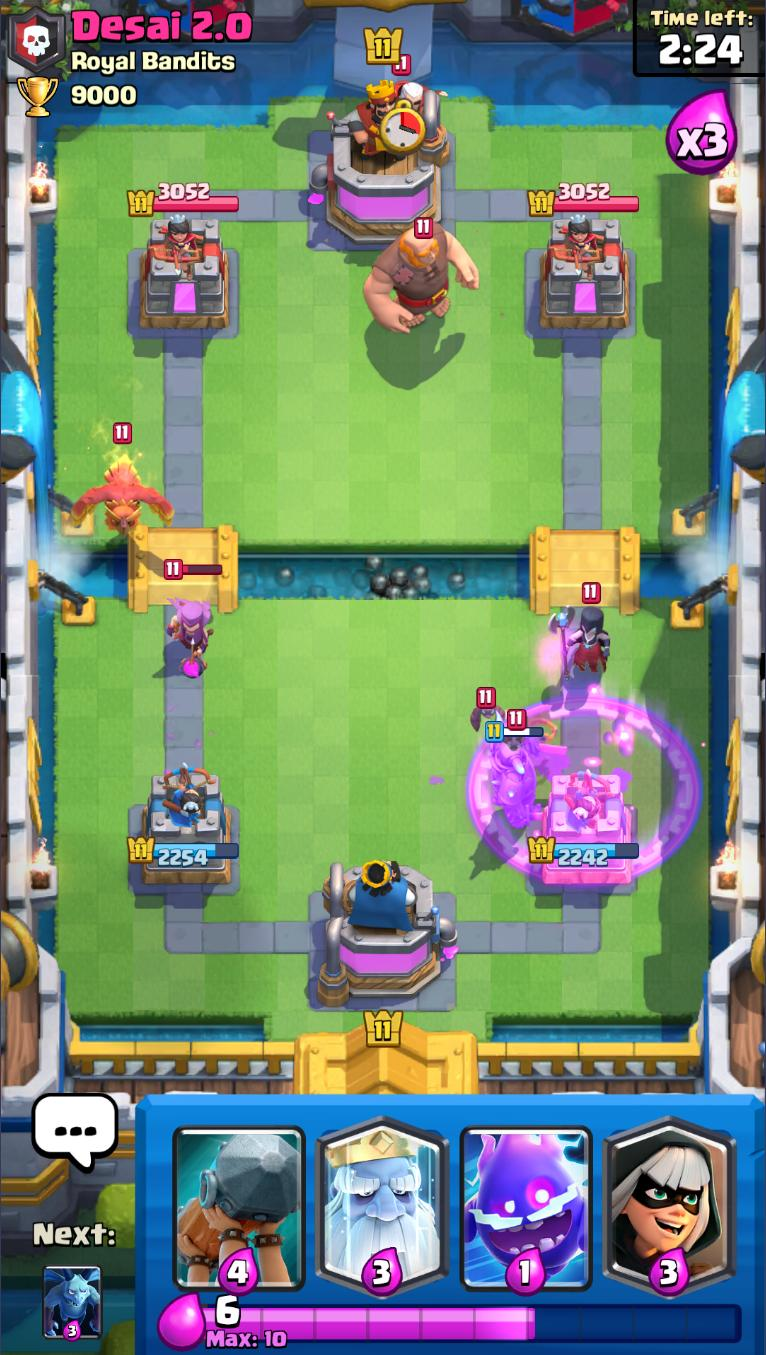BanditDeck: (597, 1097, 743, 1297)
Bat: (469, 688, 509, 731), (498, 709, 529, 752)
BattleRamDeck: (167, 1095, 311, 1295)
ElectroSpiritDeck: (455, 1096, 598, 1297)
Elixir: (201, 1296, 743, 1350)
EnemyTower: (138, 215, 232, 331), (539, 215, 632, 331)
Giant: (363, 216, 480, 336)
KingTower: (310, 79, 451, 248)
MagicArcher: (392, 53, 450, 113)
MinionsNext: (42, 1262, 102, 1342)
MotherWitch: (162, 560, 223, 679)
MyKingTower: (314, 857, 459, 1008)
MyPekka: (485, 721, 568, 824)
MyPrincessTower: (126, 773, 242, 889), (528, 770, 641, 889)
MyPrincessTowerHP: (125, 836, 241, 870), (527, 835, 641, 868)
NightWitch: (551, 582, 611, 682)
Phoenix: (69, 422, 175, 537)
PrincessTower: (149, 215, 203, 277), (551, 215, 604, 273)
Rage: (476, 699, 698, 876)
RoyaleGhostDeck: (310, 1095, 457, 1296)
TowerPrincessHP: (127, 182, 240, 217), (528, 182, 641, 216)
